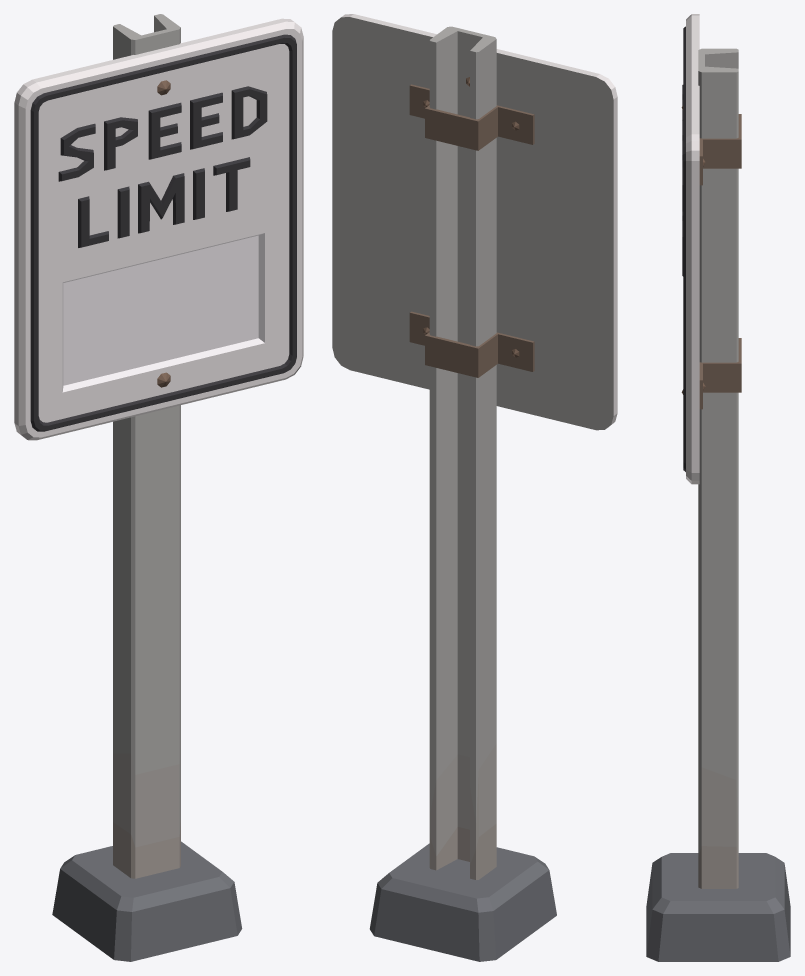
The model's file is speed-limit-sign-1c55a2.glb.
3 renders of one model, left to right at view 1: azimuth 30°, elevation 25°; view 2: azimuth 150°, elevation 25°; view 3: azimuth 270°, elevation 25°, orthographic. The views are drawn at different scales.
Visible parts, largest first — view 1: sign-face, post; view 2: post, sign-face; view 3: post, sign-face.
Boxes of the visible parts, left/top/right/bottom form: sign-face: left=14, top=18, right=303, bottom=961; post: left=113, top=14, right=180, bottom=878; post: left=332, top=17, right=613, bottom=879; sign-face: left=341, top=14, right=617, bottom=961; post: left=681, top=48, right=741, bottom=888; sign-face: left=646, top=14, right=790, bottom=961.
Size of the model in its own units: 0.8 by 2.4 by 0.36.
